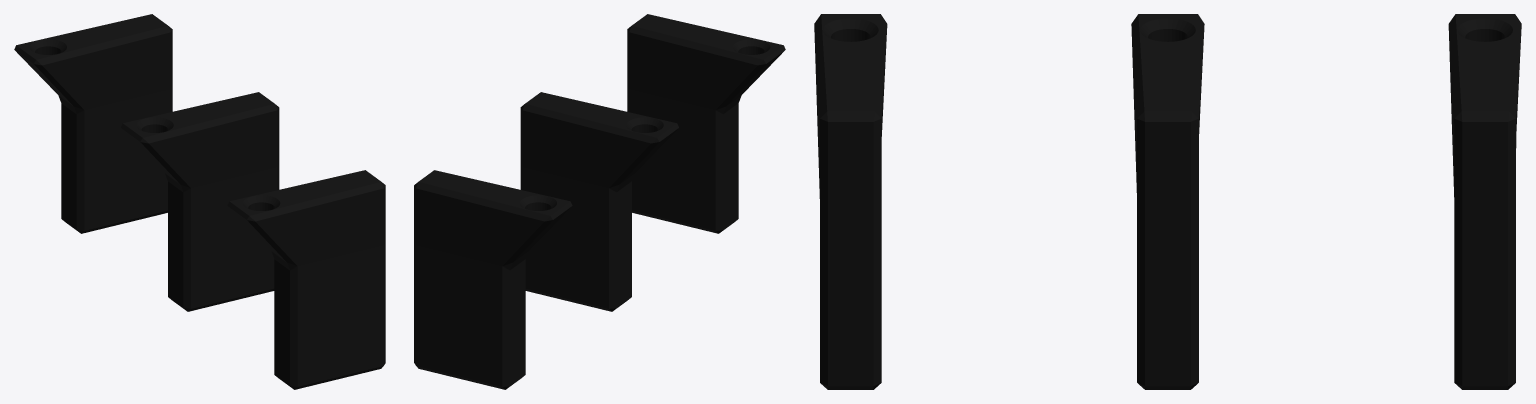
The model's file is armrest3.fbx.
The picture shows the model from 3 angles, left to right: view 1: azimuth 30°, elevation 25°; view 2: azimuth 150°, elevation 25°; view 3: azimuth 270°, elevation 25°; orthographic projection. The views are drawn at different scales.
Visible parts, largest first — view 1: ArmRest.007; view 2: ArmRest.007; view 3: ArmRest.007.
Part boxes in pixels (x1,y1,x2,y2): ArmRest.007: (14,14,385,389); ArmRest.007: (414,14,785,389); ArmRest.007: (814,14,1521,389).
Bounding box in the file's own units: 153 × 194 × 446.
